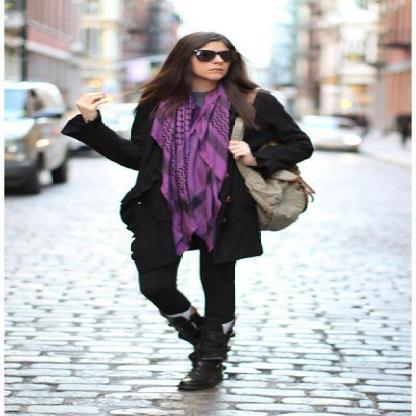bag: (212, 75, 314, 231)
jacket: (62, 92, 311, 257)
shoe: (165, 308, 235, 392)
skirt: (131, 242, 243, 320)
sunglass: (192, 50, 221, 62)
